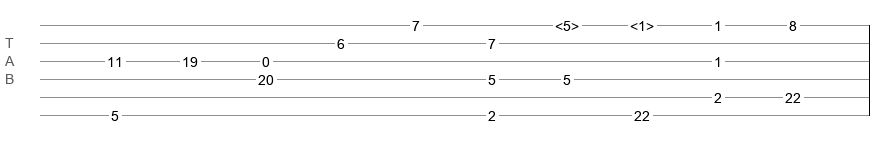0: (262, 54, 270, 64)
1: (714, 54, 722, 64), (714, 18, 722, 28)
11: (107, 54, 123, 64)
19: (182, 54, 198, 64)
2: (488, 108, 496, 118), (714, 90, 722, 100)
20: (258, 72, 274, 82)
22: (634, 108, 650, 118), (785, 90, 801, 100)
5: (111, 108, 119, 118), (488, 72, 496, 82), (563, 72, 571, 82)
6: (337, 36, 345, 46)
7: (412, 18, 420, 28), (488, 36, 496, 46)
8: (789, 18, 797, 28)
harmonic: (555, 18, 579, 28), (630, 18, 654, 28)
